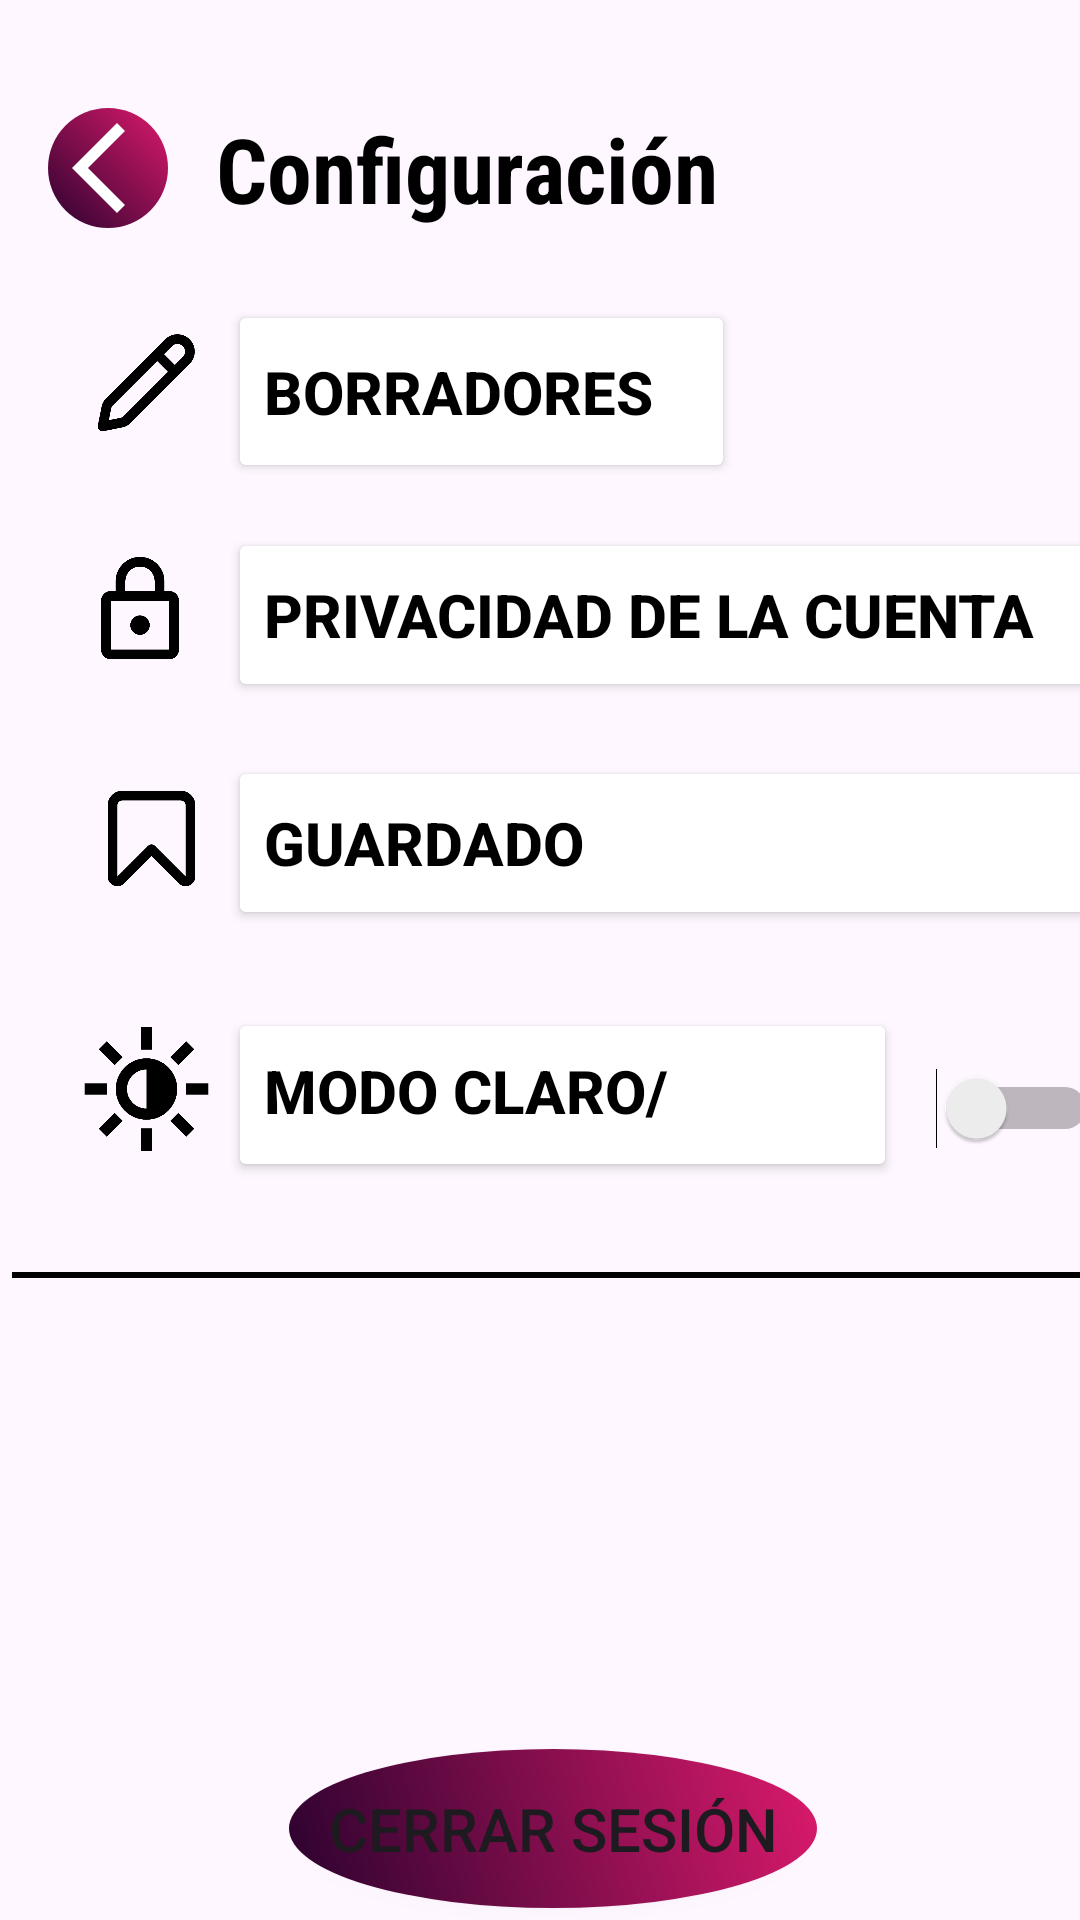

Icons on this 1080px×1920px Android screen, each with its box as rect(x1, y1, x2, y2):
back: rect(48, 108, 168, 228)
guardar: rect(108, 791, 195, 886)
lock: rect(101, 557, 179, 659)
sol: rect(84, 1027, 209, 1151)
